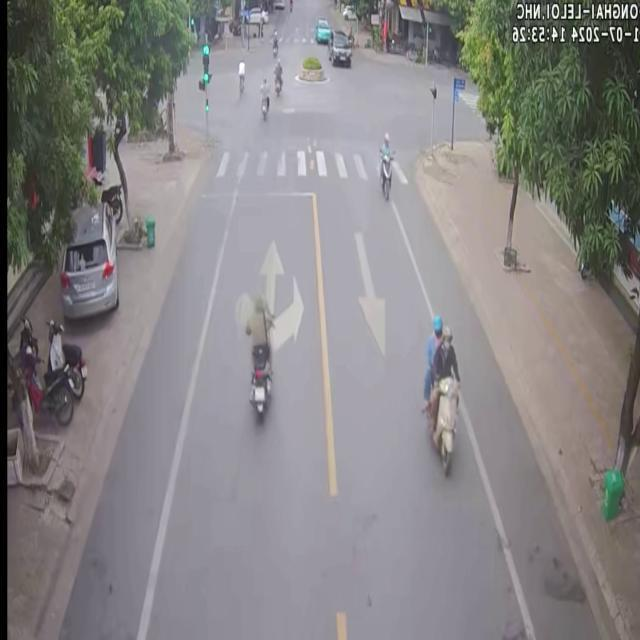car: (58, 194, 117, 318)
green_light: (201, 40, 209, 85)
motobike: (14, 316, 73, 422), (427, 322, 458, 474), (244, 296, 272, 418), (46, 318, 86, 398), (377, 128, 392, 192), (258, 79, 267, 119), (273, 58, 280, 94)
stop_line: (200, 189, 313, 196)
